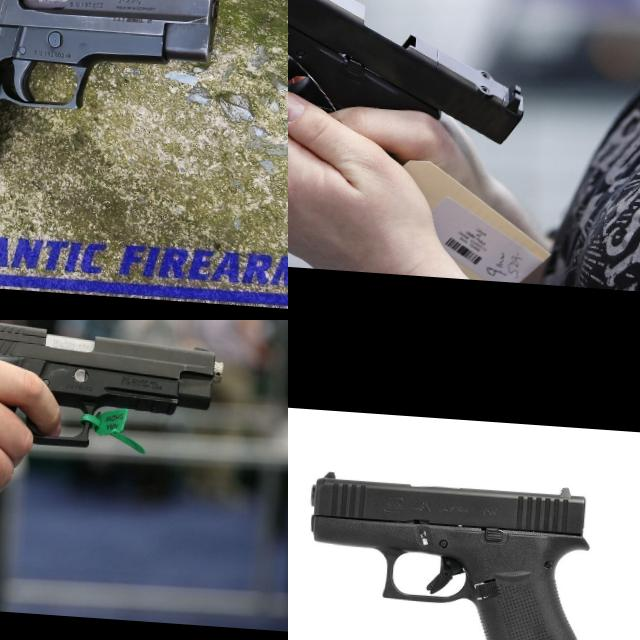handgun: (293, 467, 609, 640), (0, 0, 225, 207), (288, 0, 539, 148), (0, 320, 228, 459)
